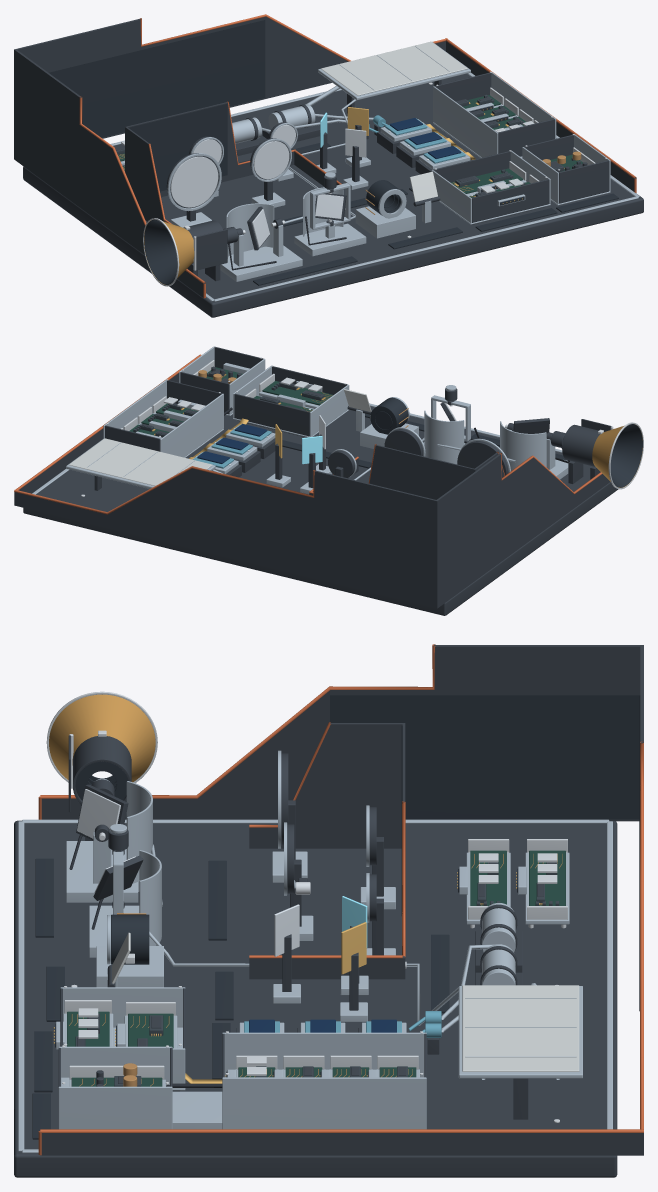
The model's file is abi.glb.
3 views of the same model, one above another, from view 1: azimuth 30°, elevation 25°; view 2: azimuth 150°, elevation 25°; view 3: azimuth 270°, elevation 25° (orthographic). The views are drawn at different scales.
Visible parts, largest first — view 1: Structure — Anodized chassis, Structure — Optical and connector recess, ScanSystem — Machined satin aluminum, Telescope — Anodized chassis, Thermal — Radiator coating, Telescope — Optical and connector recess, Telescope — Reflective optical surface, Controller — Machined satin aluminum, Readout — Anodized chassis, Thermal — Machined satin aluminum, Power — Anodized chassis, Controller — Anodized chassis (+29 smaller); view 2: Structure — Anodized chassis, Telescope — Anodized chassis, ScanSystem — Machined satin aluminum, Controller — Machined satin aluminum, Thermal — Radiator coating, Readout — Anodized chassis, ScanSystem — Anodized chassis, Readout — Machined satin aluminum, Structure — Cutaway section edge, Controller — Anodized chassis, ScanSystem — Optical and connector recess, Power — Anodized chassis (+20 smaller); view 3: Structure — Anodized chassis, Structure — Optical and connector recess, Telescope — Anodized chassis, Controller — Machined satin aluminum, Thermal — Radiator coating, Power — Machined satin aluminum, ScanSystem — Machined satin aluminum, Thermal — Machined satin aluminum, Structure — Machined satin aluminum, Structure — Cutaway section edge, ScanSystem — Representative MLI outer layer, Readout — Machined satin aluminum (+27 smaller).
Part boxes in pixels (x1=…): Structure — Anodized chassis: x1=14, y1=16, x2=643, y2=317; Structure — Optical and connector recess: x1=49, y1=20, x2=265, y2=137; ScanSystem — Machined satin aluminum: x1=220, y1=99, x2=366, y2=281; Telescope — Anodized chassis: x1=125, y1=102, x2=343, y2=221; Thermal — Radiator coating: x1=321, y1=41, x2=467, y2=95; Telescope — Optical and connector recess: x1=129, y1=104, x2=302, y2=226; Telescope — Reflective optical surface: x1=170, y1=124, x2=295, y2=207; Controller — Machined satin aluminum: x1=433, y1=72, x2=556, y2=157; Readout — Anodized chassis: x1=433, y1=151, x2=549, y2=224; Thermal — Machined satin aluminum: x1=121, y1=42, x2=470, y2=165; Power — Anodized chassis: x1=524, y1=135, x2=609, y2=203; Controller — Anodized chassis: x1=434, y1=72, x2=554, y2=156; Structure — Anodized chassis: x1=14, y1=373, x2=618, y2=615; Telescope — Anodized chassis: x1=309, y1=429, x2=508, y2=499; ScanSystem — Machined satin aluminum: x1=212, y1=385, x2=568, y2=480; Controller — Machined satin aluminum: x1=103, y1=380, x2=223, y2=457; Thermal — Radiator coating: x1=69, y1=438, x2=212, y2=485; Readout — Anodized chassis: x1=234, y1=366, x2=347, y2=437; ScanSystem — Anodized chassis: x1=445, y1=388, x2=611, y2=483; Readout — Machined satin aluminum: x1=233, y1=366, x2=349, y2=437; Structure — Cutaway section edge: x1=14, y1=354, x2=602, y2=514; Controller — Anodized chassis: x1=105, y1=380, x2=222, y2=451; ScanSystem — Optical and connector recess: x1=470, y1=424, x2=642, y2=487; Power — Anodized chassis: x1=180, y1=347, x2=263, y2=414; Structure — Anodized chassis: x1=14, y1=645, x2=643, y2=1177; Structure — Optical and connector recess: x1=330, y1=695, x2=640, y2=1011; Telescope — Anodized chassis: x1=249, y1=723, x2=405, y2=979; Controller — Machined satin aluminum: x1=222, y1=1032, x2=426, y2=1129; Thermal — Radiator coating: x1=462, y1=985, x2=579, y2=1071; Power — Machined satin aluminum: x1=58, y1=1046, x2=222, y2=1129; ScanSystem — Machined satin aluminum: x1=66, y1=778, x2=458, y2=1025; Thermal — Machined satin aluminum: x1=441, y1=852, x2=582, y2=1079; Structure — Machined satin aluminum: x1=18, y1=819, x2=612, y2=1153; Structure — Cutaway section edge: x1=38, y1=644, x2=643, y2=1155; ScanSystem — Representative MLI outer layer: x1=49, y1=694, x2=155, y2=782; Readout — Machined satin aluminum: x1=56, y1=987, x2=185, y2=1090.
Size of the model in its own units: 11.4 by 3.13 by 8.56.
